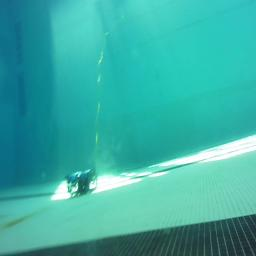front: (65, 168, 98, 198)
